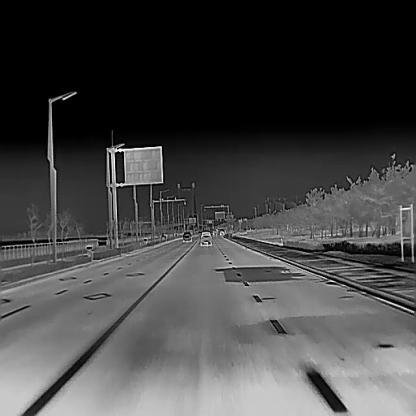car: (199, 231, 212, 245), (182, 231, 191, 242)
